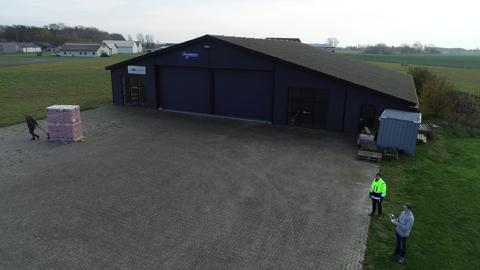RockwoolPallet: (46, 103, 84, 143)
